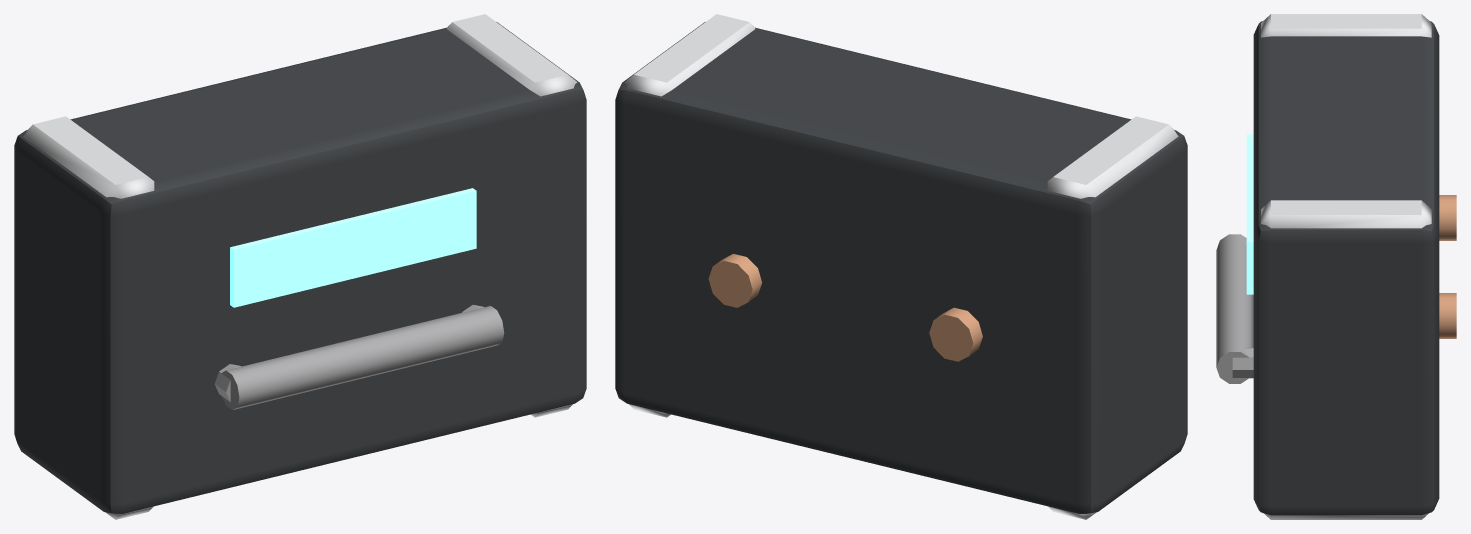
Rendered from heavy_cell.glb.
3 renders of one model, left to right at view 1: azimuth 30°, elevation 25°; view 2: azimuth 150°, elevation 25°; view 3: azimuth 270°, elevation 25°, orthographic. The views are drawn at different scales.
Visible parts, largest first — view 1: heavy_cell; view 2: heavy_cell; view 3: heavy_cell.
Part boxes in pixels (x1=…): heavy_cell: x1=14, y1=14, x2=586, y2=519; heavy_cell: x1=615, y1=14, x2=1187, y2=519; heavy_cell: x1=1216, y1=14, x2=1456, y2=519.
Size of the model in its own units: 0.44 by 0.29 by 0.207.
